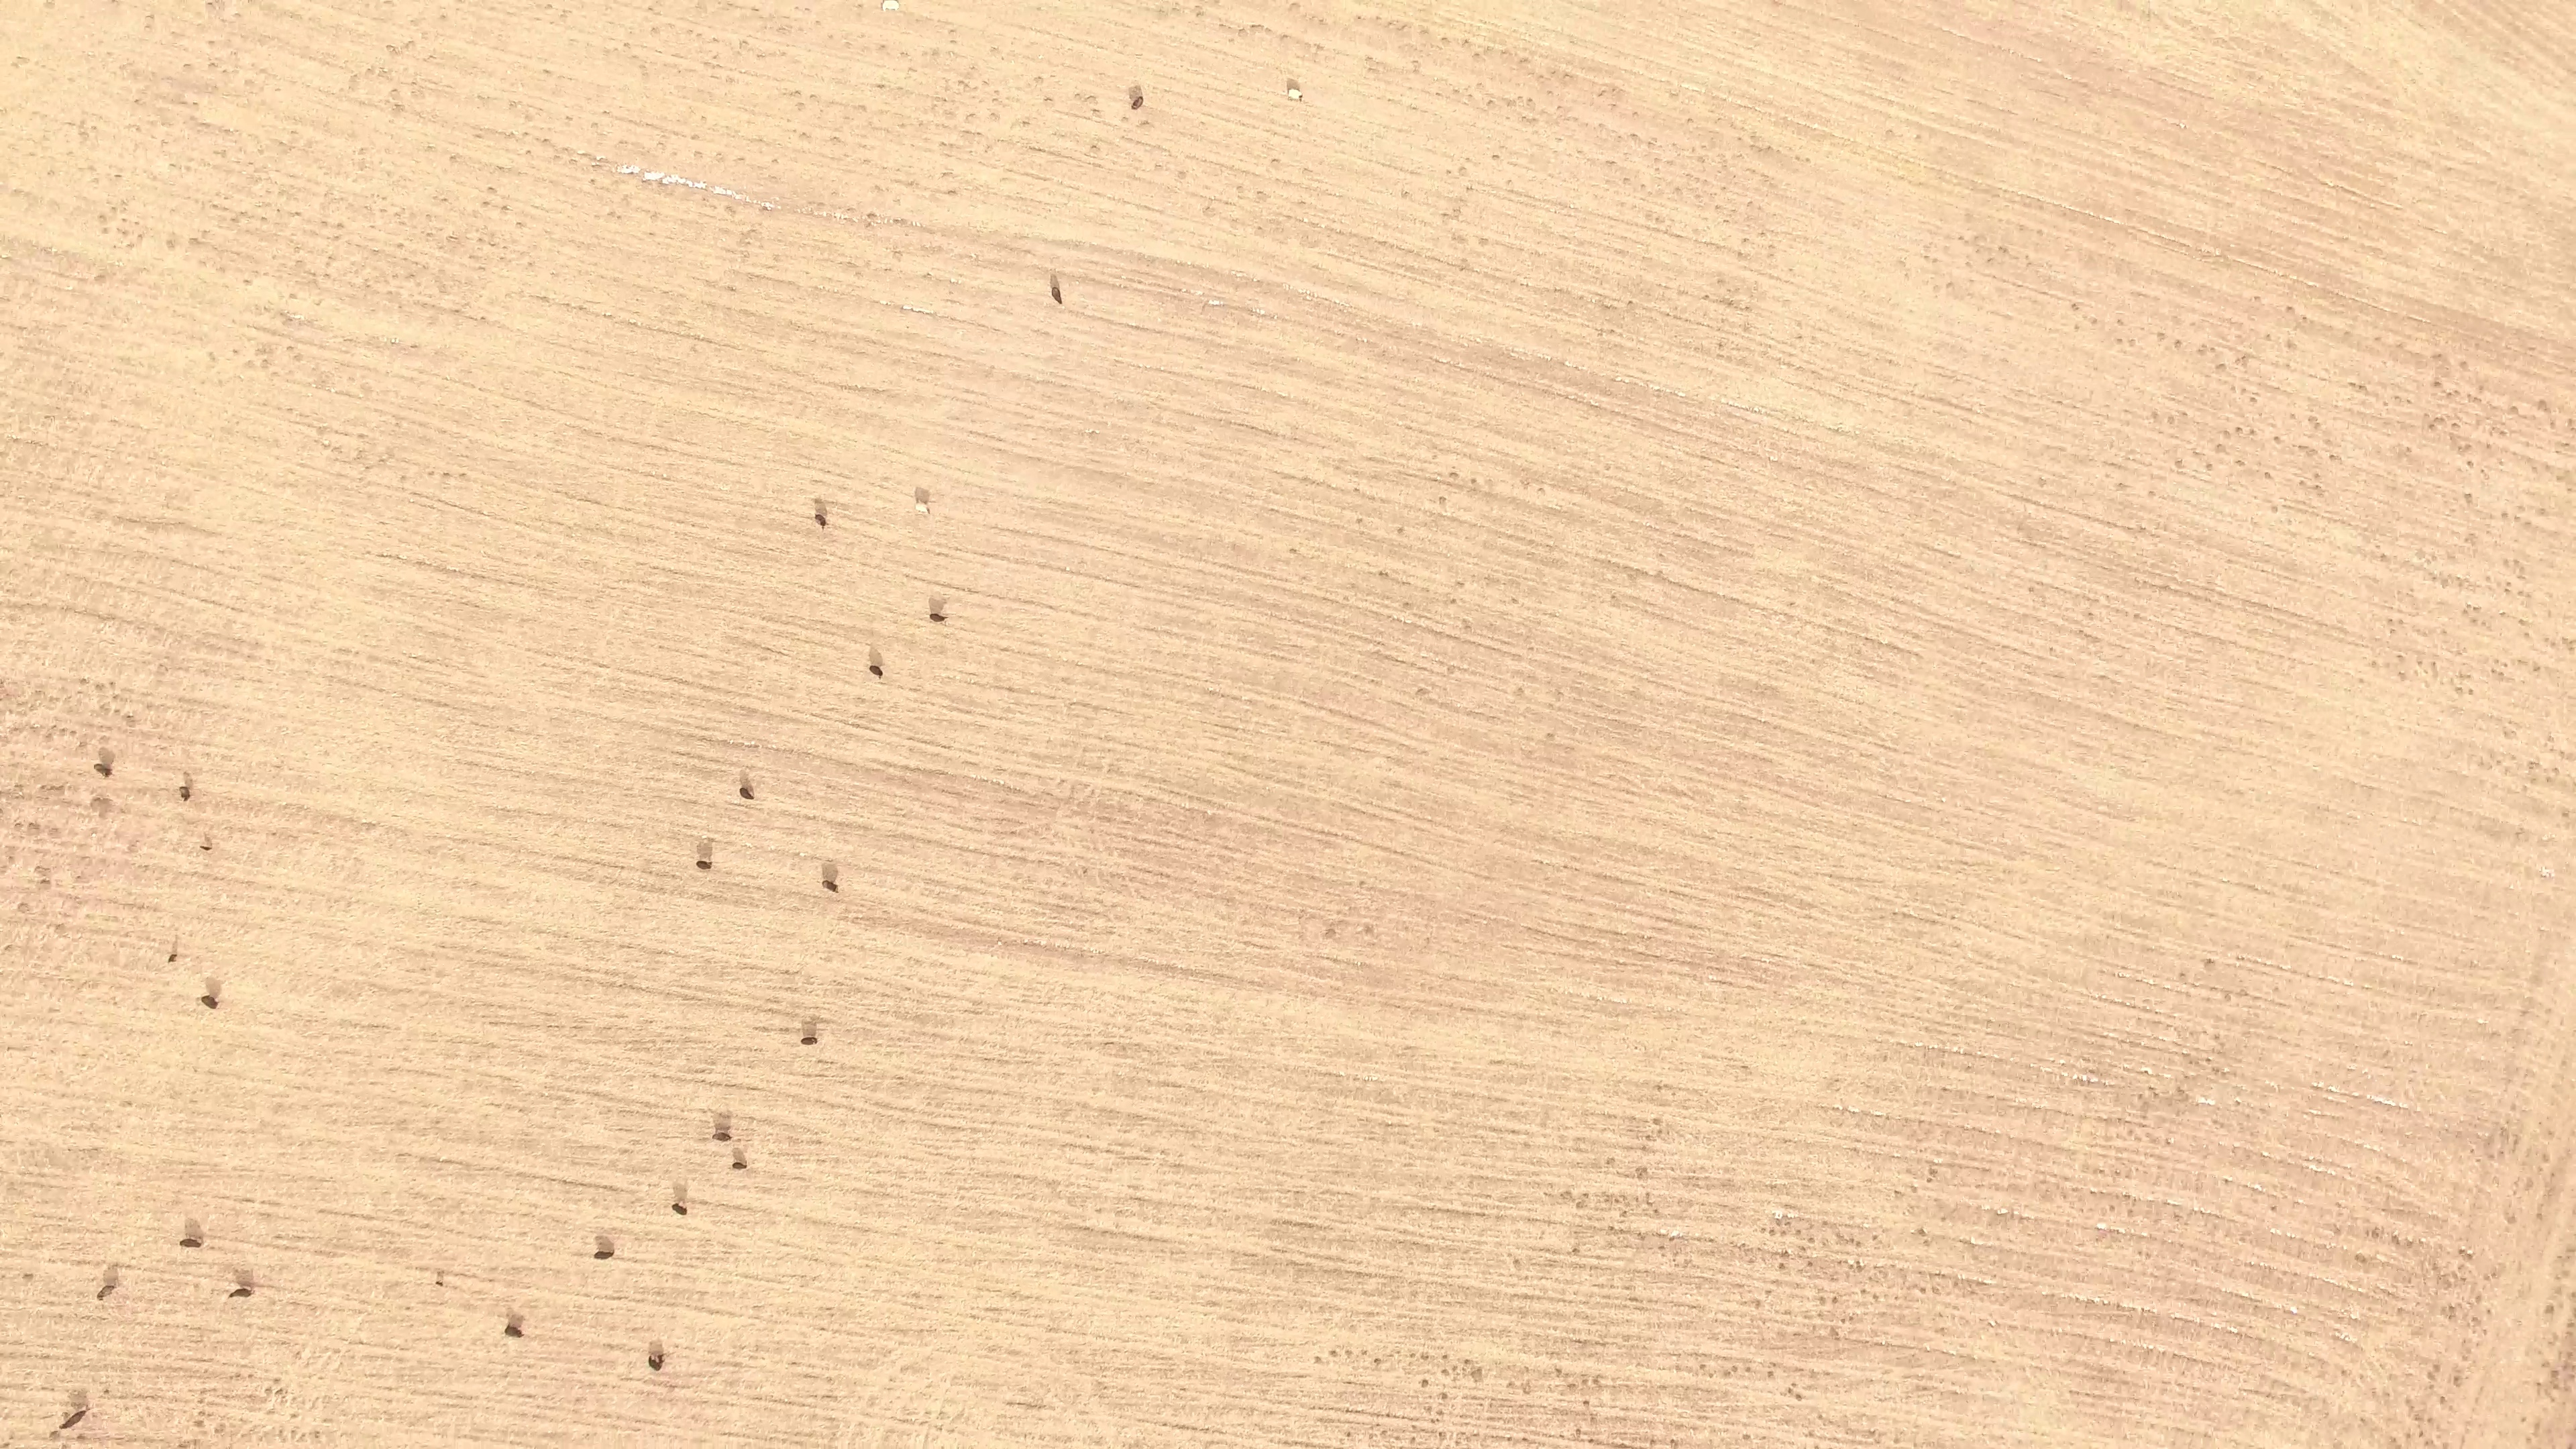sheep: (60, 1403, 89, 1432), (225, 1281, 258, 1305), (95, 1281, 121, 1304), (197, 989, 223, 1012), (176, 1232, 205, 1254), (501, 1320, 527, 1341), (174, 783, 196, 804), (92, 759, 117, 781), (590, 1244, 618, 1263), (646, 1352, 667, 1375), (708, 1128, 735, 1145), (913, 498, 934, 518), (667, 1199, 690, 1219), (819, 875, 841, 896), (737, 784, 757, 803), (866, 661, 886, 680), (810, 512, 830, 531), (727, 1157, 750, 1173), (799, 1033, 820, 1049), (693, 857, 715, 873), (879, 1, 901, 14), (196, 839, 215, 855), (164, 952, 180, 965), (433, 1278, 446, 1289)
unknown: (1047, 271, 1065, 307), (926, 597, 949, 625), (1126, 83, 1146, 113), (694, 840, 716, 861), (91, 794, 113, 811), (1283, 76, 1303, 93), (2351, 1252, 2370, 1267), (73, 1389, 89, 1403), (1468, 1365, 1485, 1381), (1666, 1228, 1680, 1244), (47, 783, 66, 794), (2548, 1367, 2562, 1381), (1827, 1325, 1841, 1339), (2542, 1303, 2557, 1316), (2201, 956, 2214, 969), (2535, 397, 2549, 411), (48, 1428, 63, 1441), (1997, 1205, 2009, 1220), (600, 1182, 616, 1193), (38, 876, 53, 888), (716, 1110, 734, 1122), (1792, 1391, 1805, 1404), (1419, 1377, 1432, 1390), (2451, 1373, 2463, 1388), (2430, 1361, 2443, 1375), (2445, 1303, 2457, 1316), (21, 1271, 36, 1283), (2388, 1233, 2402, 1246), (2369, 1227, 2382, 1240), (1915, 1226, 1928, 1239), (1668, 1436, 1681, 1449), (1739, 1432, 1752, 1443), (193, 1417, 205, 1430), (1438, 1391, 1450, 1403), (1327, 1347, 1339, 1358), (1927, 1166, 1939, 1178), (1638, 1165, 1650, 1176), (1650, 1116, 1663, 1128), (1325, 926, 1338, 937), (1363, 924, 1375, 936), (74, 1432, 89, 1443), (2094, 1220, 2108, 1232), (2204, 1096, 2218, 1108), (1587, 1414, 1597, 1426), (1580, 1398, 1593, 1408), (1919, 1384, 1930, 1394), (1566, 1381, 1578, 1391), (2425, 1371, 2438, 1383), (1765, 1368, 1776, 1379), (1721, 1368, 1731, 1379), (1439, 1366, 1450, 1377), (1554, 1366, 1565, 1377), (1729, 1364, 1741, 1375), (1461, 1356, 1474, 1367), (1371, 1355, 1384, 1366), (1312, 1354, 1324, 1365), (1829, 1294, 1841, 1306), (2444, 1280, 2454, 1291), (1973, 1279, 1985, 1289), (434, 1268, 446, 1280), (1854, 1263, 1866, 1275), (1776, 1260, 1787, 1272), (2464, 1251, 2475, 1263), (1778, 1250, 1790, 1260), (1570, 1245, 1581, 1256), (1793, 1227, 1804, 1238), (2534, 1210, 2545, 1222), (1562, 1188, 1574, 1199), (32, 821, 42, 833), (77, 676, 90, 687), (2397, 669, 2408, 682), (1395, 525, 1406, 536), (2461, 491, 2474, 502), (2462, 441, 2473, 453), (2355, 382, 2367, 392), (2431, 378, 2443, 389), (1615, 1441, 1629, 1449), (1891, 1436, 1902, 1446), (1585, 1436, 1597, 1446), (1520, 1435, 1531, 1445), (1866, 1428, 1878, 1439), (311, 1428, 321, 1438), (212, 1426, 223, 1436), (1179, 1422, 1189, 1432), (288, 1411, 299, 1421), (1025, 1401, 1035, 1411), (2403, 1397, 2413, 1407), (2437, 1393, 2448, 1405), (274, 1387, 285, 1397), (2551, 1381, 2561, 1392), (1579, 1377, 1590, 1387), (1590, 1376, 1601, 1387), (271, 1376, 282, 1387), (2339, 1368, 2349, 1378), (1743, 1364, 1754, 1375), (1697, 1361, 1708, 1372), (1440, 1352, 1450, 1362), (2469, 1314, 2481, 1325), (1846, 1313, 1856, 1324), (2288, 1303, 2299, 1314), (2473, 1293, 2484, 1304), (1917, 1285, 1929, 1295), (2430, 1263, 2440, 1273), (1805, 1258, 1816, 1269), (1511, 1256, 1522, 1267), (2456, 1247, 2467, 1257), (2404, 1238, 2416, 1250), (1847, 1235, 1857, 1245), (1805, 1235, 1816, 1245), (1638, 1233, 1648, 1244), (2268, 1203, 2279, 1214), (1573, 1199, 1583, 1211), (1910, 1184, 1920, 1195), (559, 1177, 570, 1187), (1639, 1144, 1649, 1154), (1382, 1120, 1392, 1130), (2197, 1095, 2208, 1106), (1654, 1083, 1665, 1093), (2080, 1072, 2090, 1082), (782, 1025, 792, 1035), (808, 1014, 818, 1024), (6, 853, 16, 863), (365, 820, 376, 830), (2559, 810, 2571, 820), (96, 810, 107, 820), (2466, 686, 2476, 698), (2531, 663, 2543, 674), (2460, 607, 2471, 617), (1287, 545, 1298, 556), (2499, 510, 2509, 520), (1468, 476, 1479, 486), (441, 470, 451, 480), (2204, 461, 2214, 471), (2465, 458, 2475, 468), (2298, 443, 2308, 453), (2272, 434, 2282, 444), (2233, 424, 2243, 435), (2509, 403, 2519, 413), (2247, 394, 2257, 405), (2284, 340, 2294, 350), (2155, 329, 2165, 339), (335, 220, 345, 230), (759, 203, 769, 213), (645, 171, 655, 182), (1419, 1353, 1431, 1363), (1344, 1348, 1354, 1358), (621, 166, 633, 176), (1, 1440, 11, 1449), (1504, 1434, 1515, 1444), (2404, 1431, 2414, 1442), (1316, 1415, 1326, 1425), (1967, 1354, 1978, 1364), (1838, 1316, 1848, 1326), (1627, 1295, 1638, 1305), (1817, 1294, 1827, 1304), (1951, 1279, 1961, 1289), (1938, 1271, 1948, 1281), (1854, 1238, 1864, 1250), (1870, 1232, 1880, 1242), (1607, 1224, 1617, 1234), (1820, 1218, 1831, 1228), (2508, 1214, 2518, 1224), (2007, 1212, 2017, 1222), (1461, 1210, 1472, 1220), (1651, 1206, 1661, 1216), (2123, 1192, 2133, 1202), (2511, 1137, 2521, 1147), (2076, 1077, 2086, 1087), (617, 863, 627, 873), (1449, 596, 1459, 606), (2440, 576, 2450, 586), (2483, 441, 2493, 451), (2247, 427, 2257, 437), (2312, 420, 2322, 430), (97, 272, 108, 282), (190, 235, 201, 245), (500, 203, 510, 213), (724, 187, 734, 197), (102, 1387, 112, 1397), (732, 1360, 742, 1370), (813, 1137, 823, 1147), (1900, 910, 1910, 920), (1376, 569, 1386, 579), (2115, 335, 2125, 345), (2393, 1443, 2404, 1449), (1811, 1443, 1822, 1449), (1, 1350, 5, 1360), (1, 806, 5, 816)
